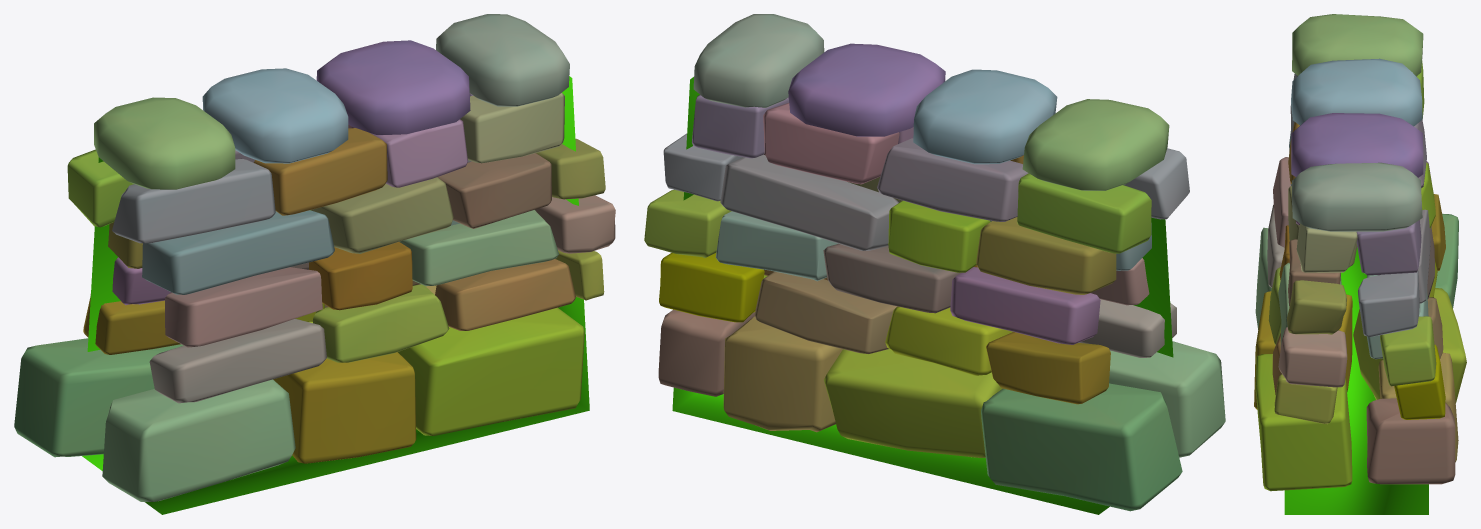
Rendered from SM_Prop_wall_stone_13.glb.
3 views of the same model, side by side, from view 1: azimuth 30°, elevation 25°; view 2: azimuth 150°, elevation 25°; view 3: azimuth 270°, elevation 25° (orthographic). The views are drawn at different scales.
Visible parts, largest first — view 1: SM_Prop_wall_stone_13; view 2: SM_Prop_wall_stone_13; view 3: SM_Prop_wall_stone_13.
Boxes of the visible parts, <box> form: SM_Prop_wall_stone_13: <box>14,14,615,514</box>; SM_Prop_wall_stone_13: <box>644,14,1225,514</box>; SM_Prop_wall_stone_13: <box>1254,14,1466,514</box>.
Size of the model in its own units: 2.35 by 1.58 by 0.9448.
